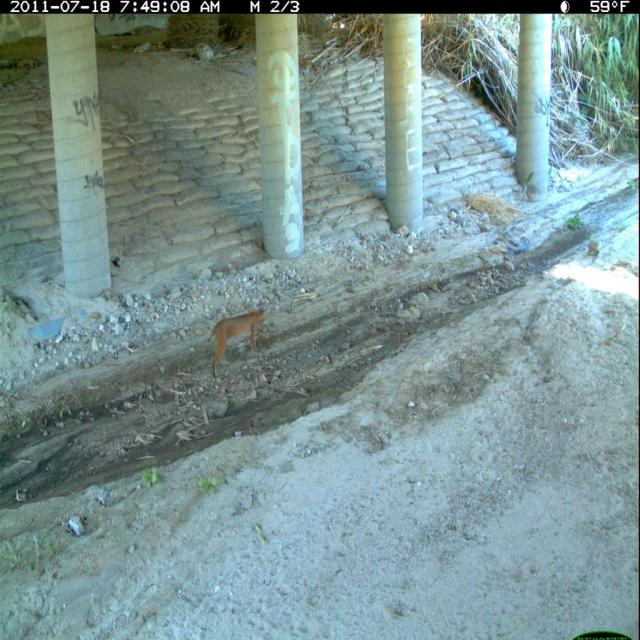bobcat: (205, 299, 273, 382)
